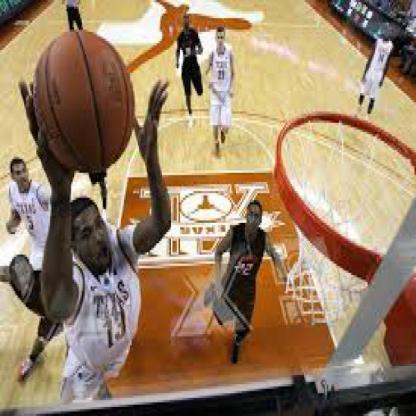basketball: (33, 32, 135, 177)
rim: (269, 107, 415, 285)
